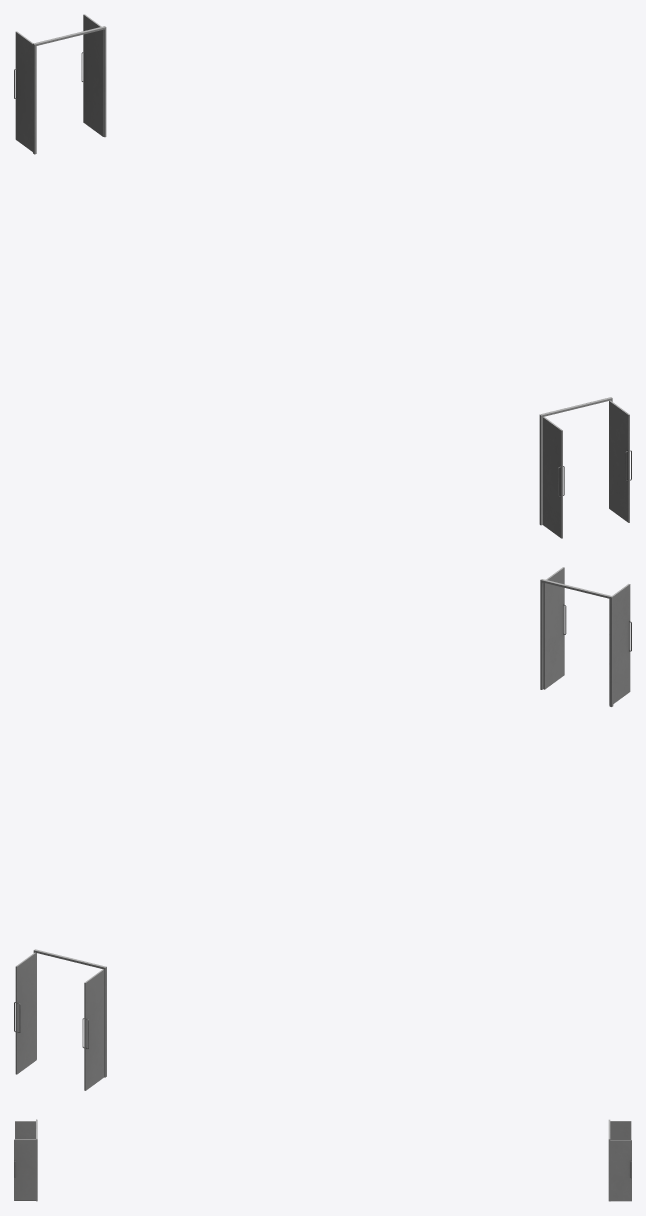
Rendered from Doors.fbx.
The picture shows the model from 3 angles, top to bottom: view 1: azimuth 30°, elevation 25°; view 2: azimuth 150°, elevation 25°; view 3: azimuth 270°, elevation 25°; orthographic projection. The views are drawn at different scales.
Visible parts, largest first — view 1: Door08 (×2), Door07 (×2), Door3_frame (×2); view 2: Door08 (×2), Door07 (×2), Door3_frame (×2); view 3: Door08 (×2), Door07 (×2), Door3_frame (×2).
Boxes of the visible parts, x1,y1,x2,y2 form: Door08 (×2): (81, 14, 631, 522); Door07 (×2): (14, 31, 564, 538); Door3_frame (×2): (33, 26, 612, 525); Door08 (×2): (14, 567, 566, 1074); Door07 (×2): (82, 584, 631, 1090); Door3_frame (×2): (33, 579, 613, 1077); Door08 (×2): (14, 1139, 631, 1201); Door07 (×2): (15, 1121, 631, 1139); Door3_frame (×2): (36, 1119, 610, 1201).
Bounding box in the file's own units: 166 × 233 × 2102.
Materials: 1 (1 with a texture image).
